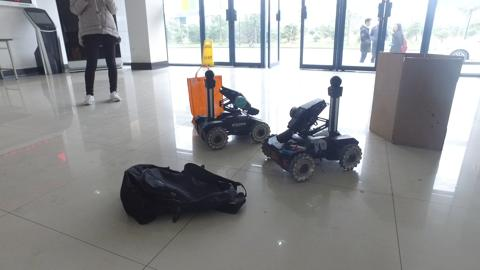bag: (122, 165, 245, 223)
box: (373, 52, 460, 150)
chariot: (258, 75, 368, 180), (195, 70, 266, 152)
